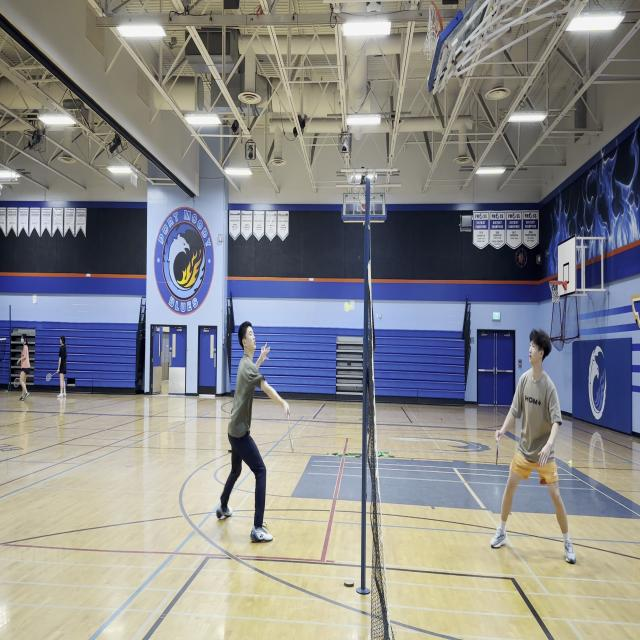shuttlecock: (344, 302, 352, 312)
